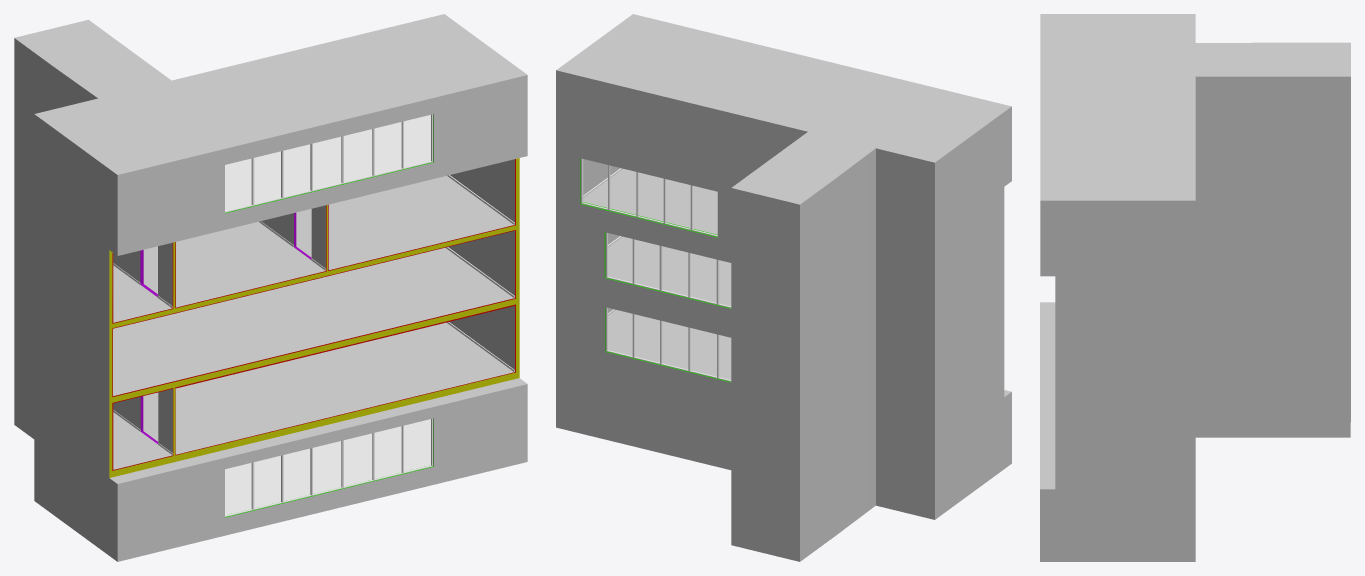
Rendered from Building.fbx.
The picture shows the model from 3 angles, left to right: view 1: azimuth 30°, elevation 25°; view 2: azimuth 150°, elevation 25°; view 3: azimuth 270°, elevation 25°; orthographic projection. The views are drawn at different scales.
Parts seen in each view (by area): view 1: Building_low, Building_additional, Building_secondary; view 2: Building_low, Building_secondary; view 3: Building_low.
Boxes of the visible parts, box(x1,y1,x2,y2) form: Building_low: box(14, 14, 527, 561); Building_additional: box(225, 115, 430, 515); Building_secondary: box(113, 114, 514, 516); Building_low: box(556, 14, 1011, 561); Building_secondary: box(581, 158, 731, 381); Building_low: box(1040, 14, 1350, 561).
Bounding box in the file's own units: 14.19 × 12.79 × 9.97.
